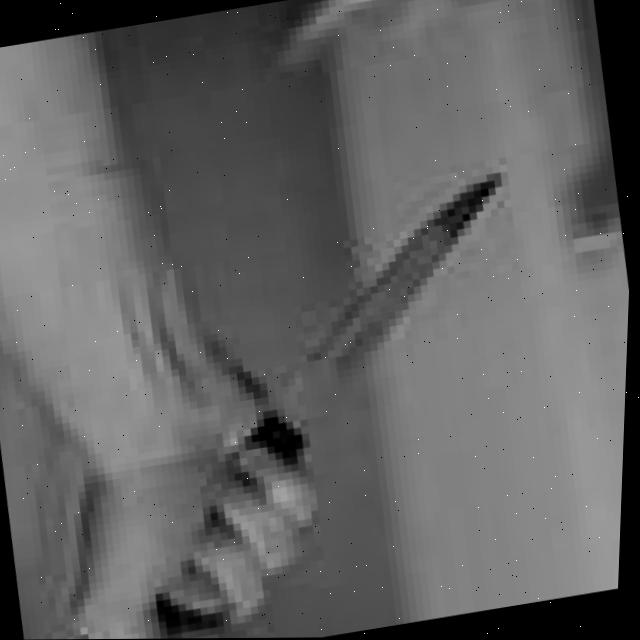knife: (206, 170, 538, 483)
